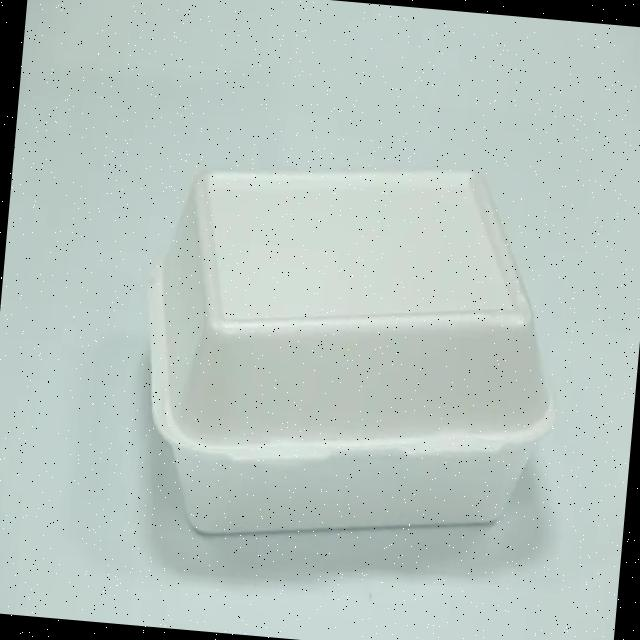styrofoam: (125, 140, 576, 564)
